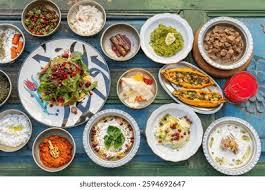Braised Crucian Carp: (21, 39, 109, 127), (158, 60, 224, 113), (201, 115, 260, 174), (145, 102, 203, 162), (82, 108, 140, 167), (195, 16, 252, 70), (139, 12, 194, 64)
